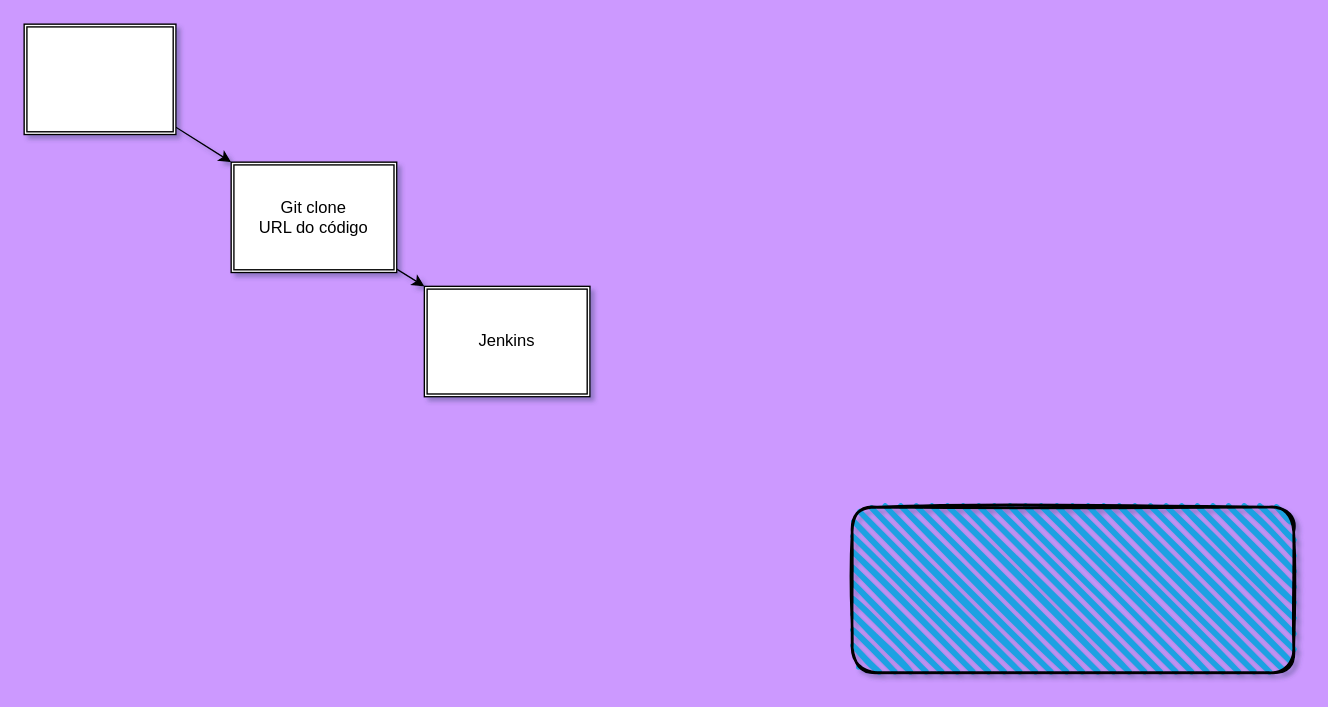
Some shapes in this 1328 by 707 pixel diagram are drawn without their labels. Each missing label, with the box of its shape:
Codigo font - Git: (23, 23, 176, 135)
Pipe Line: (850, 505, 1294, 673)
